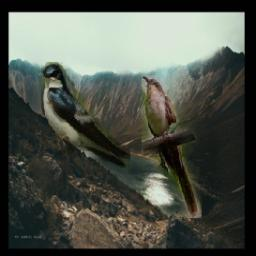Cuckoo: (142, 75, 202, 218)
Swallow: (42, 62, 131, 168)
